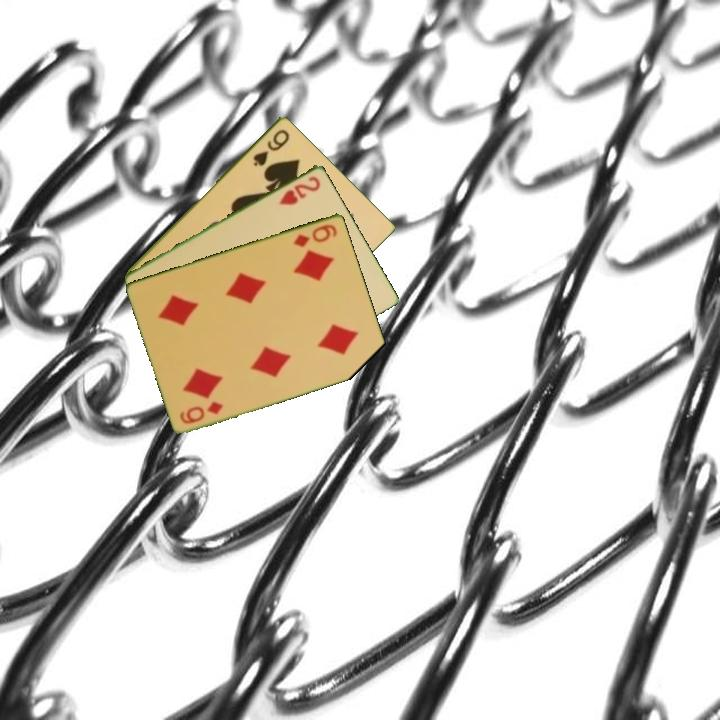2h: (275, 172, 324, 208)
6d: (290, 220, 340, 250), (176, 398, 226, 426)
9s: (249, 125, 293, 169)
